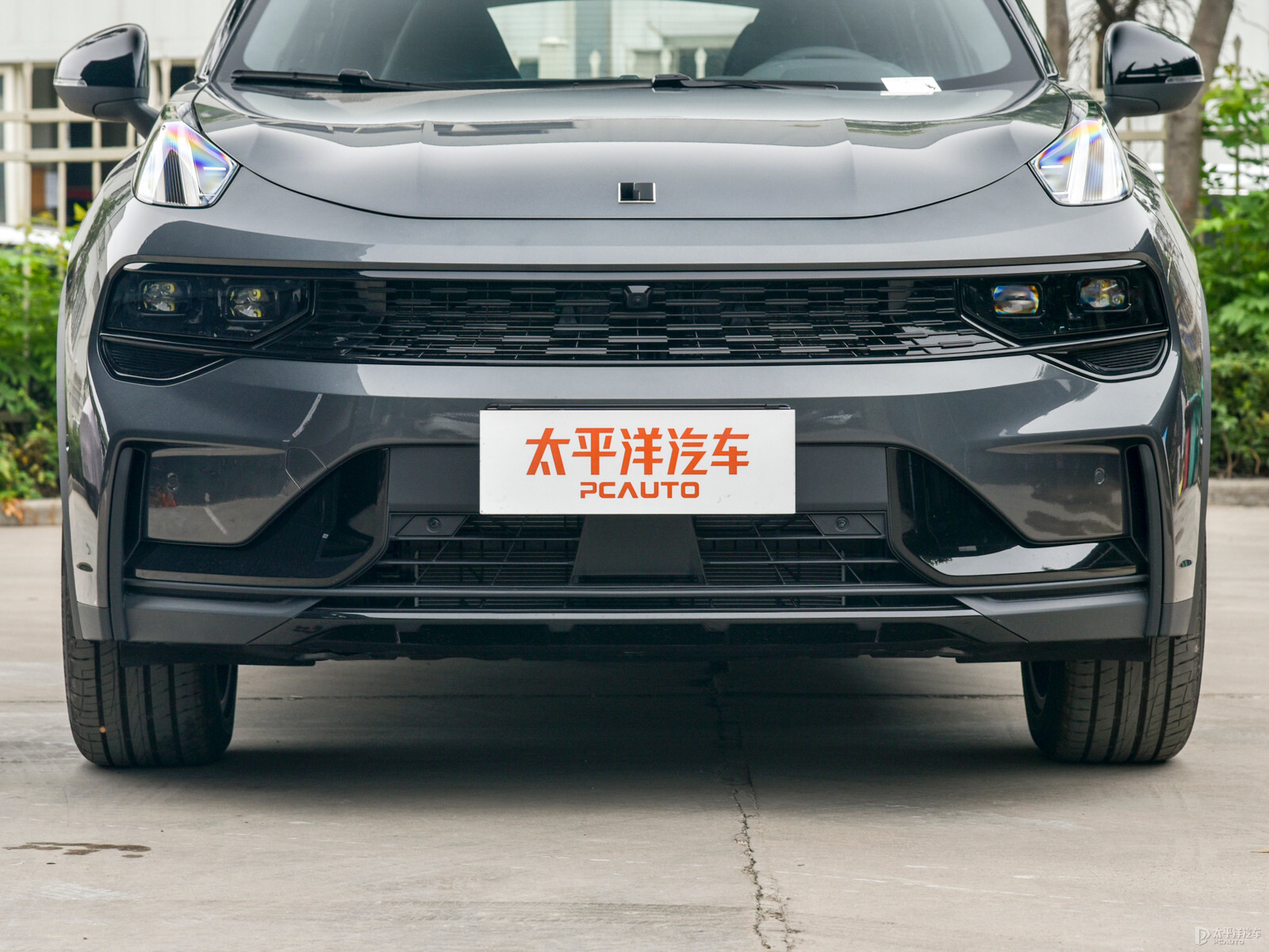LINK&CO: (620, 182, 653, 201)
